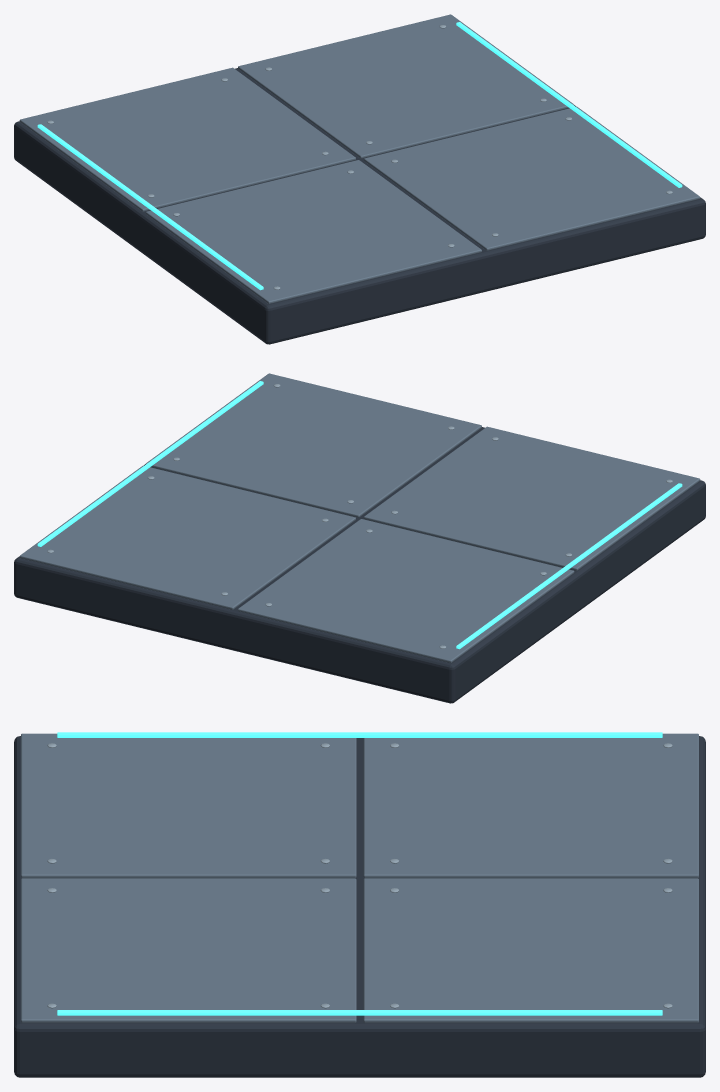
Rendered from FloorPanel.fbx.
3 views of the same model, one above another, from view 1: azimuth 30°, elevation 25°; view 2: azimuth 150°, elevation 25°; view 3: azimuth 270°, elevation 25° (orthographic). The views are drawn at different scales.
Visible parts, largest first — view 1: FloorChassis, DeckPanel.002, DeckPanel, DeckPanel.001, DeckPanel.003, FloorSafetyLight, FloorSafetyLight.001; view 2: FloorChassis, DeckPanel.003, DeckPanel.001, DeckPanel, DeckPanel.002, FloorSafetyLight, FloorSafetyLight.001; view 3: DeckPanel.002, DeckPanel.003, DeckPanel, DeckPanel.001, FloorChassis, FloorSafetyLight, FloorSafetyLight.001.
Part boxes in pixels (bbox=[...]): FloorChassis: bbox=[14, 68, 705, 344]; DeckPanel.002: bbox=[364, 106, 700, 250]; DeckPanel: bbox=[145, 160, 481, 303]; DeckPanel.001: bbox=[19, 67, 355, 211]; DeckPanel.003: bbox=[238, 14, 574, 158]; FloorSafetyLight: bbox=[37, 124, 263, 290]; FloorSafetyLight.001: bbox=[456, 22, 682, 187]; FloorChassis: bbox=[14, 427, 705, 703]; DeckPanel.003: bbox=[19, 465, 355, 609]; DeckPanel.001: bbox=[238, 519, 574, 662]; DeckPanel: bbox=[364, 426, 700, 570]; DeckPanel.002: bbox=[145, 373, 481, 517]; FloorSafetyLight: bbox=[456, 483, 682, 649]; FloorSafetyLight.001: bbox=[37, 381, 263, 546]; DeckPanel.002: bbox=[21, 878, 356, 1023]; DeckPanel.003: bbox=[363, 878, 698, 1023]; DeckPanel: bbox=[21, 733, 356, 878]; DeckPanel.001: bbox=[363, 733, 698, 878]; FloorChassis: bbox=[14, 736, 705, 1077]; FloorSafetyLight: bbox=[57, 732, 662, 737]; FloorSafetyLight.001: bbox=[57, 1010, 662, 1015].
Bounding box in the file's own units: 4 × 0.3925 × 4.
